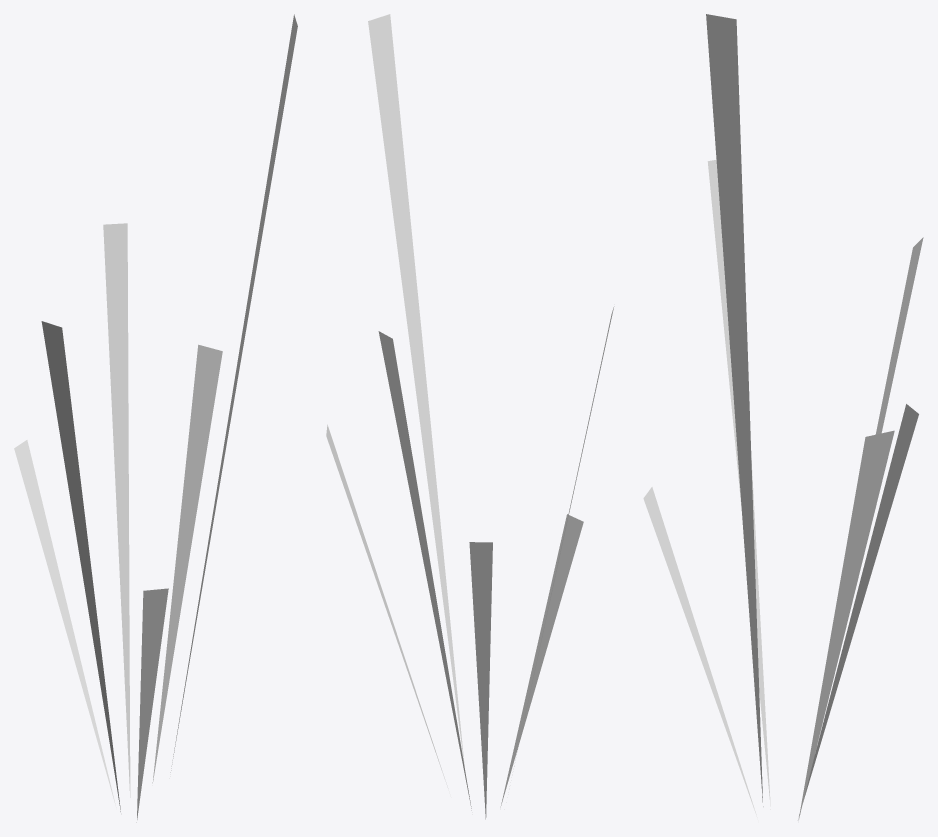
File: rain_splash.glb
3 renders of one model, left to right at view 1: azimuth 30°, elevation 25°; view 2: azimuth 150°, elevation 25°; view 3: azimuth 270°, elevation 25°, orthographic. The views are drawn at different scales.
Visible parts, largest first — view 1: Sphere; view 2: Sphere; view 3: Sphere.
Part boxes in pixels (bbox=[...]): Sphere: bbox=[14, 14, 297, 822]; Sphere: bbox=[326, 14, 614, 819]; Sphere: bbox=[643, 14, 923, 820].
Size of the model in its own units: 0.1761 by 0.5183 by 0.1488.
Materials: 1 (1 with a texture image).
